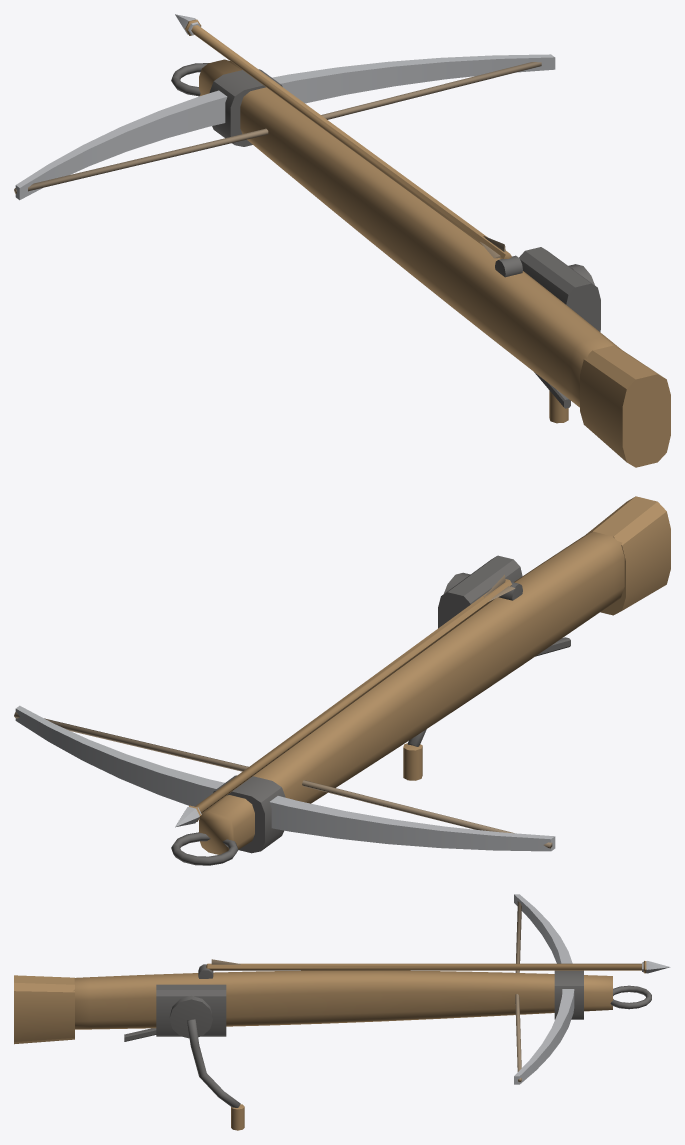
The model's file is light-crank-crossbow.glb.
3 views of the same model, one above another, from view 1: azimuth 30°, elevation 25°; view 2: azimuth 150°, elevation 25°; view 3: azimuth 270°, elevation 25° (orthographic). The views are drawn at different scales.
Visible parts, largest first — view 1: light-crank-crossbow; view 2: light-crank-crossbow; view 3: light-crank-crossbow.
Boxes of the visible parts, x1,y1,x2,y2 form: light-crank-crossbow: [14, 14, 670, 467]; light-crank-crossbow: [14, 496, 670, 865]; light-crank-crossbow: [14, 894, 670, 1130].
Size of the model in its own units: 1.48 by 0.55 by 2.26.
